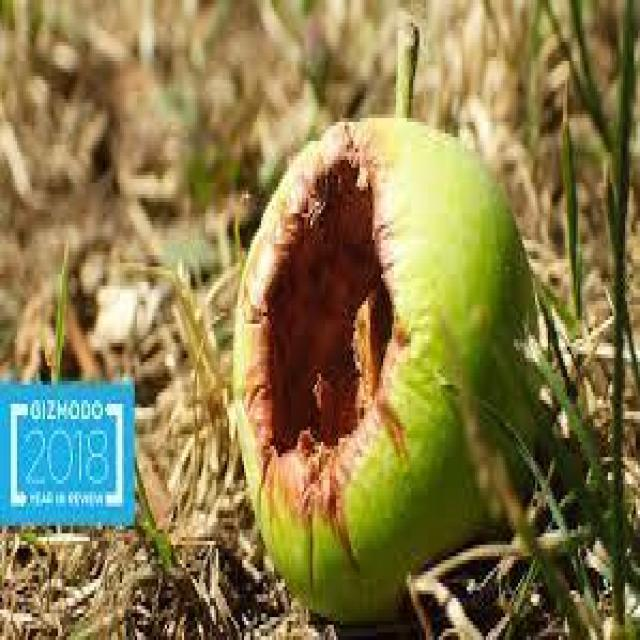maca: (231, 110, 537, 625)
